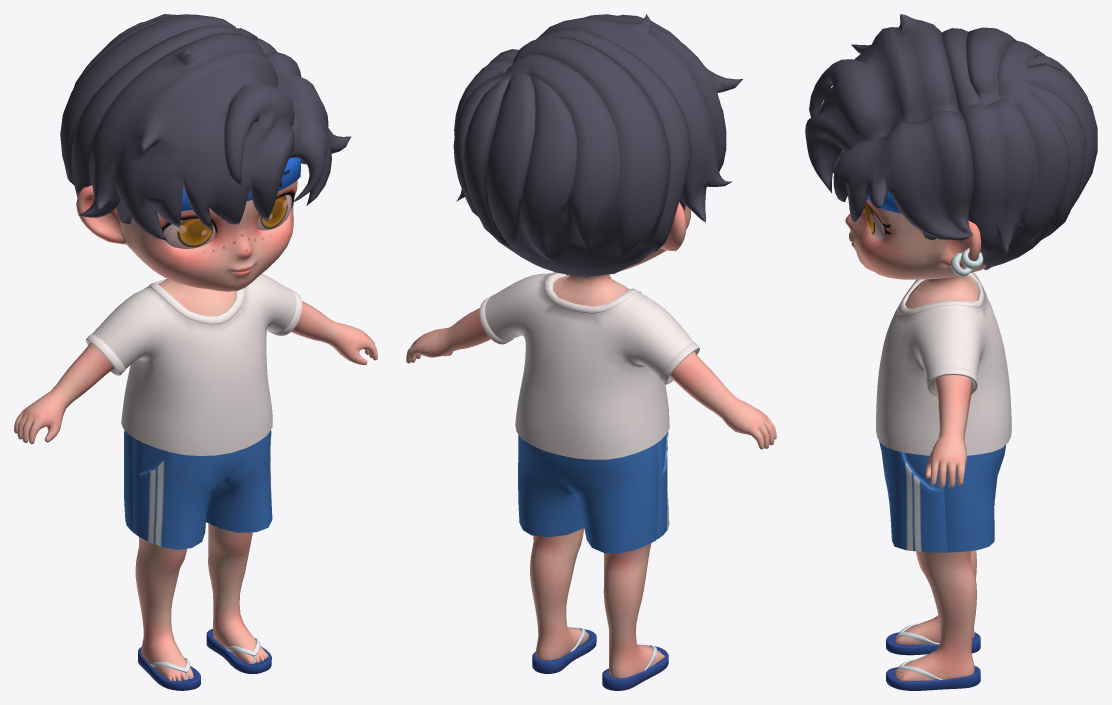
File: m_hair_12.FBX
3 renders of one model, left to right at view 1: azimuth 30°, elevation 25°; view 2: azimuth 150°, elevation 25°; view 3: azimuth 270°, elevation 25°, orthographic.
Visible parts, largest first — view 1: m_hair_12, shangbanshen, xiabanshen, head, foot, hand; view 2: m_hair_12, shangbanshen, xiabanshen, foot, hand, head; view 3: m_hair_12, shangbanshen, xiabanshen, head, foot, hand.
Boxes of the visible parts, box(x1,y1,x2,y2) form: m_hair_12: box(60, 14, 351, 240); shangbanshen: box(50, 273, 339, 455); xiabanshen: box(124, 430, 272, 645); head: box(76, 180, 297, 291); foot: box(138, 621, 271, 690); hand: box(14, 322, 377, 444); m_hair_12: box(453, 14, 742, 277); shangbanshen: box(442, 272, 736, 459); xiabanshen: box(518, 431, 669, 659); foot: box(532, 626, 668, 690); hand: box(406, 328, 776, 449); head: box(620, 202, 690, 271); m_hair_12: box(805, 14, 1097, 276); shangbanshen: box(876, 272, 1011, 455); xiabanshen: box(879, 441, 1005, 659); head: box(845, 199, 986, 279); foot: box(886, 616, 980, 690); hand: box(925, 432, 966, 488).
Bounding box in the file's own units: 120 × 206 × 85.9.
Materials: 6 (6 with a texture image).
